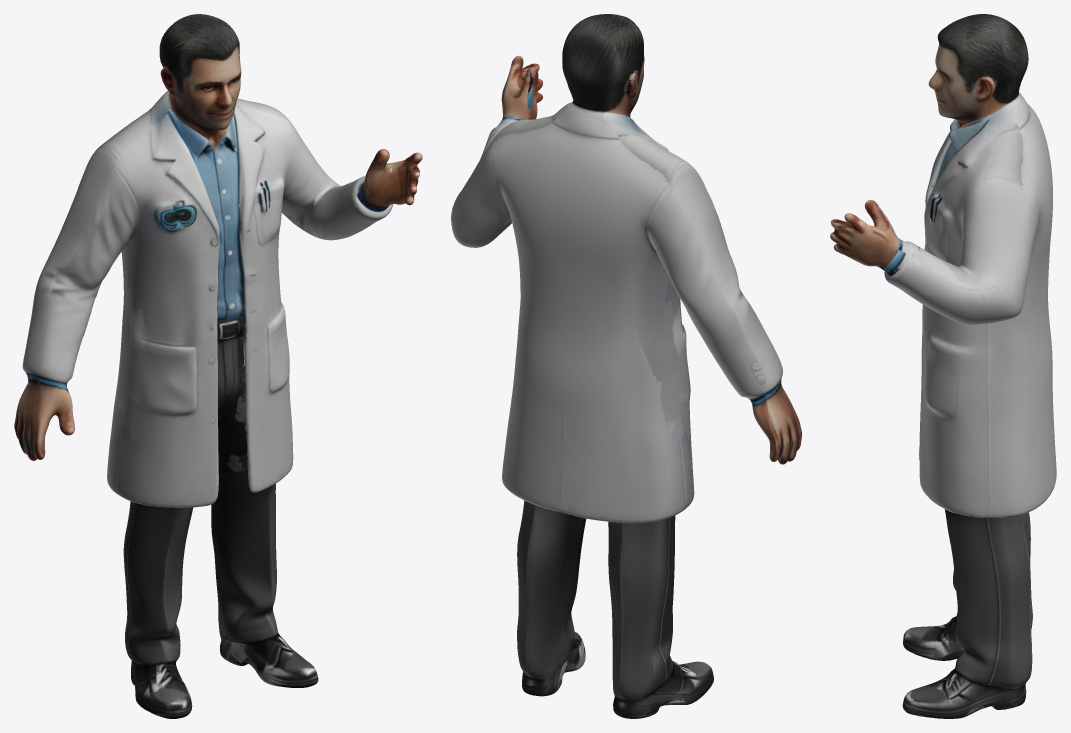
Rendered from character.glb.
3 renders of one model, left to right at view 1: azimuth 30°, elevation 25°; view 2: azimuth 150°, elevation 25°; view 3: azimuth 270°, elevation 25°, orthographic. The views are drawn at different scales.
Parts seen in each view (by area): view 1: Mesh; view 2: Mesh; view 3: Mesh.
Part boxes in pixels (box(x1,y1,x2,y2)): Mesh: box(14, 14, 422, 718); Mesh: box(451, 14, 801, 718); Mesh: box(830, 14, 1056, 718).
Size of the model in its own units: 0.5303 by 0.9911 by 0.3077.
1 material, 1 textured.
